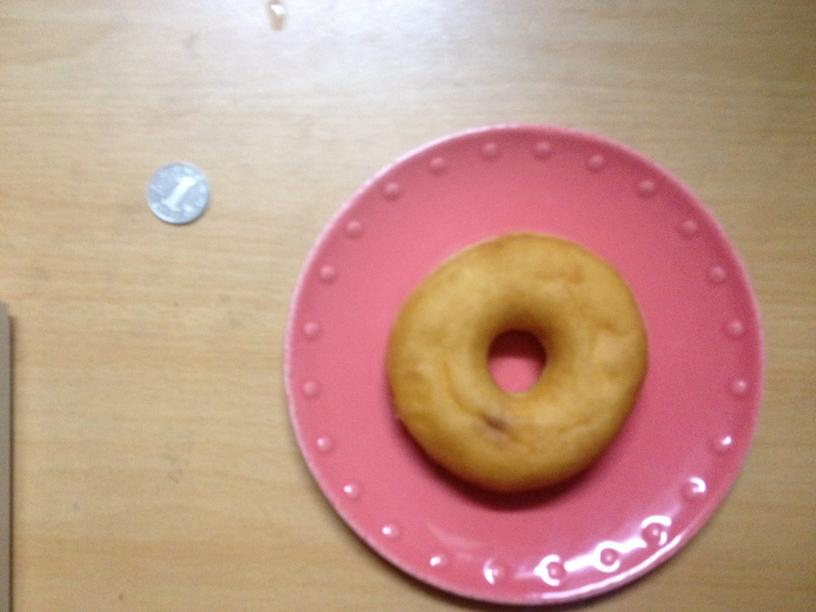coin: (146, 164, 209, 225)
doughnut: (386, 230, 649, 487)
